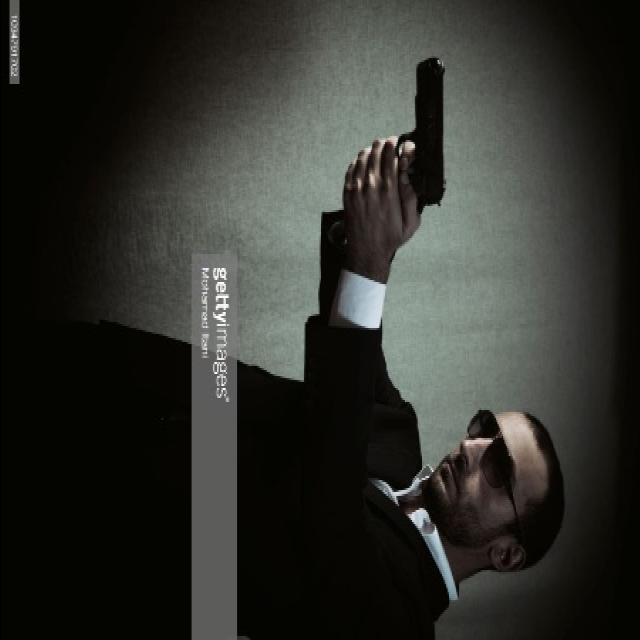handgun: (381, 43, 458, 215)
